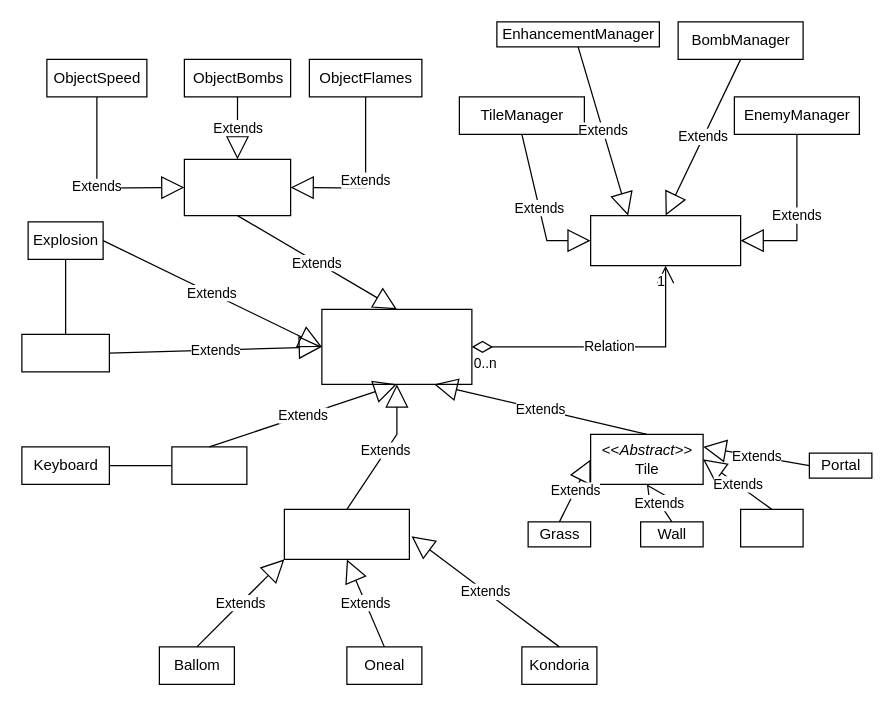
Image size: 894x706. Some labels were removed from this diagram. The shapes that lost their labels are listed below. From the top down, each one's centre as x and y in pixels, then its label:
At pixel 237 187: "<< Abstract>> Enhancement".
At pixel 665 240: "<< Abstract>> EntityManagement".
At pixel 65 352: "Bomb".
At pixel 396 346: "<< Abstract>> Entity".
At pixel 209 465: "Player".
At pixel 346 533: "<< Abstract>> Enemy".
At pixel 771 527: "Brick".
